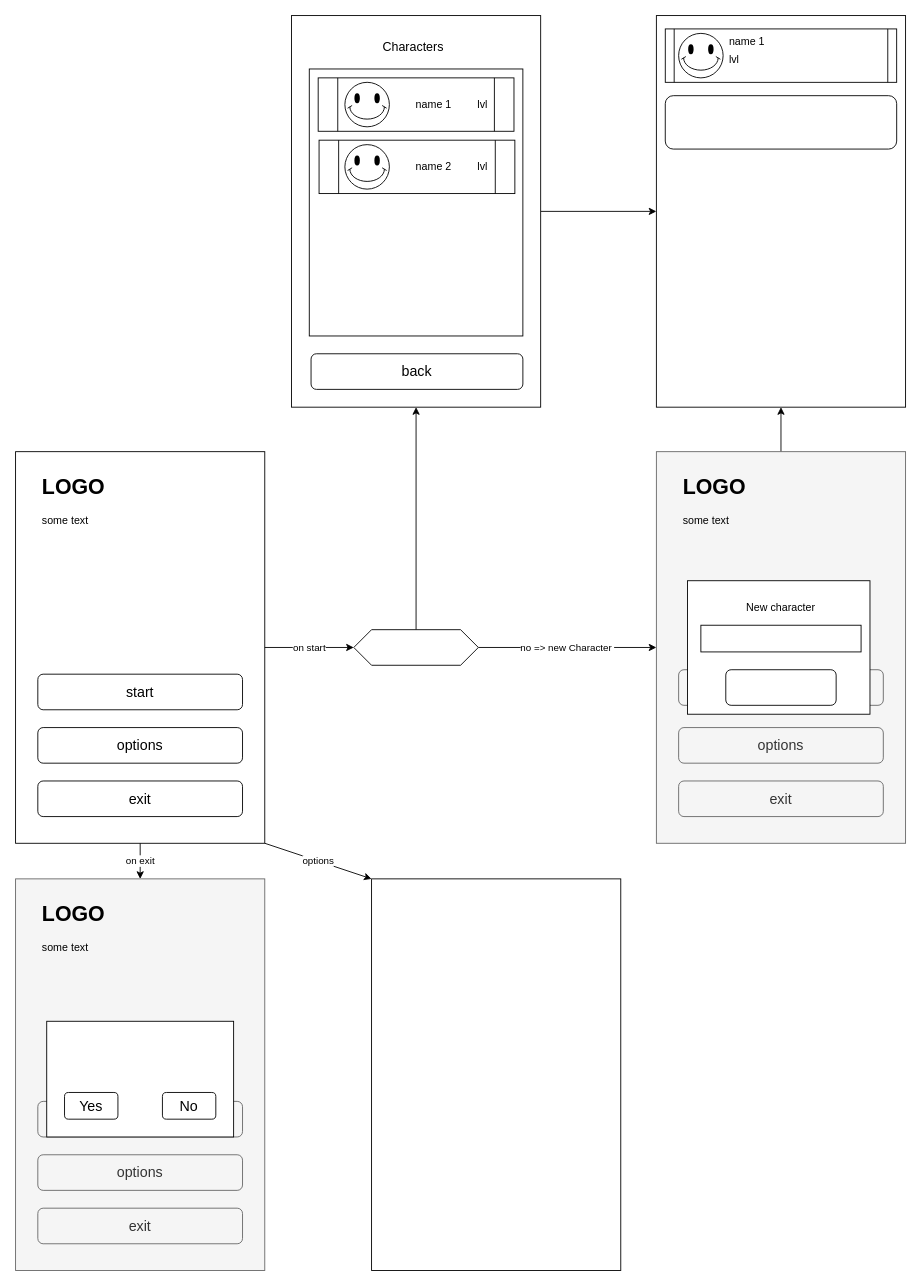
This 921x1286 diagram has some shape labels left out. The centre of each missing label's shape, as x and y in pixels:
"Are you sure?" belongs at pixel 140 1078.
"Create" belongs at pixel 780 687.
"Is exist any character" belongs at pixel 415 647.
"Name" belongs at pixel 780 638.
"spell book" belongs at pixel 780 122.
